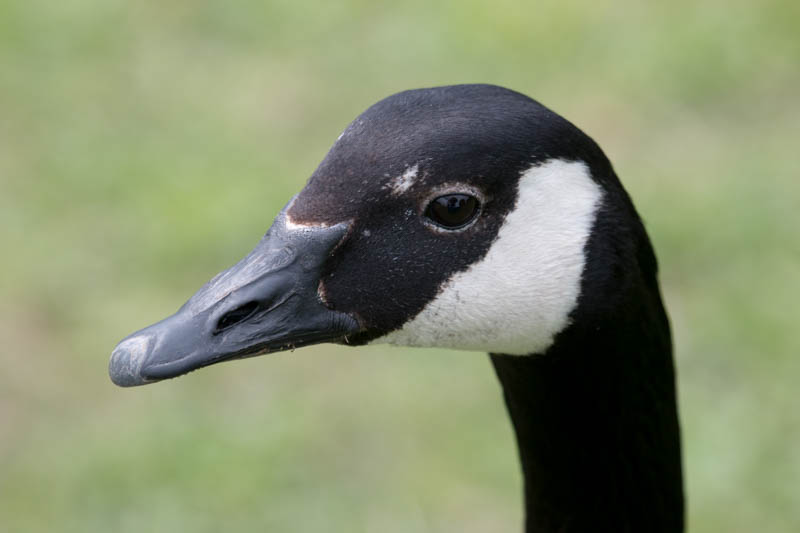goose-head: (108, 81, 660, 388)
